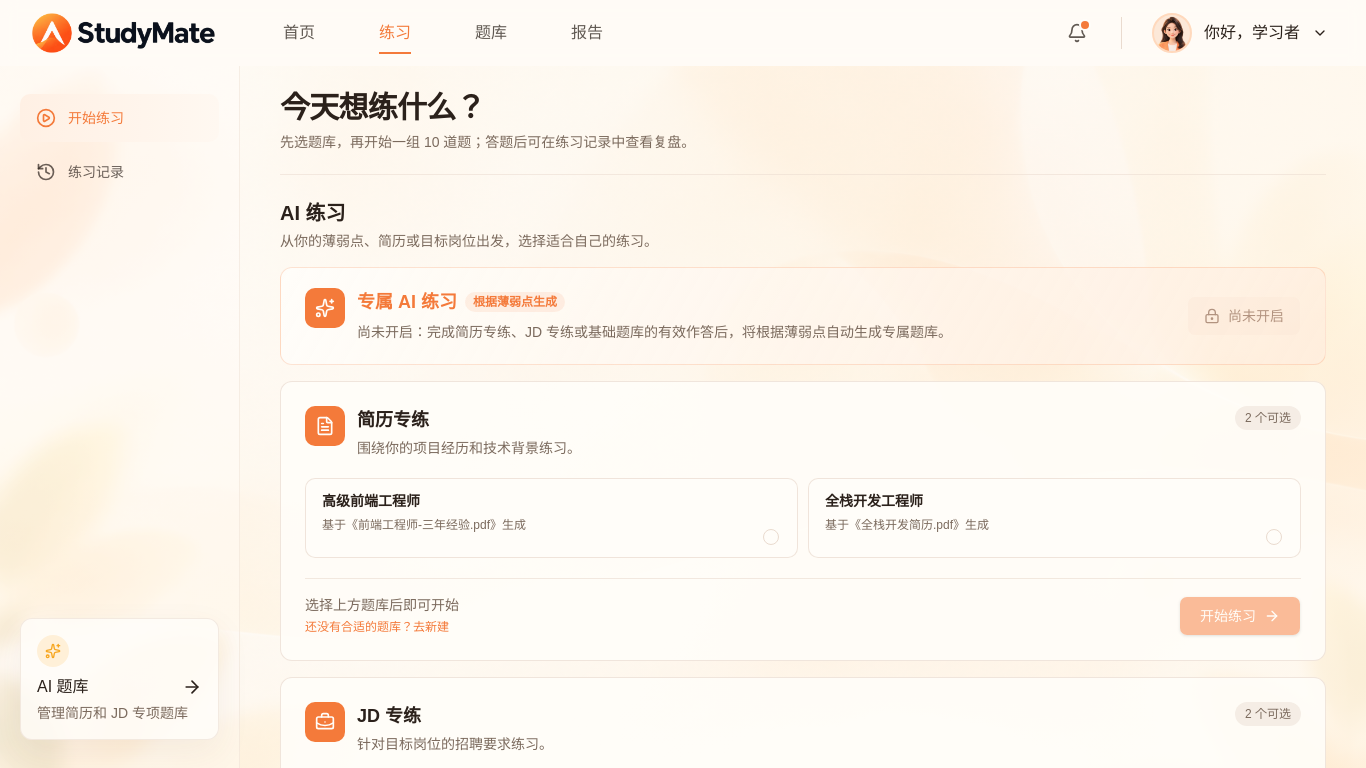
Test: StudyMate home page › opens the notification page from both authenticated header layouts
What coordinates should you click on to do the following:
click the link named "查看通知"
I would click on:
 (1078, 32)
Its box is top-left (1067, 21), bottom-right (1089, 43).
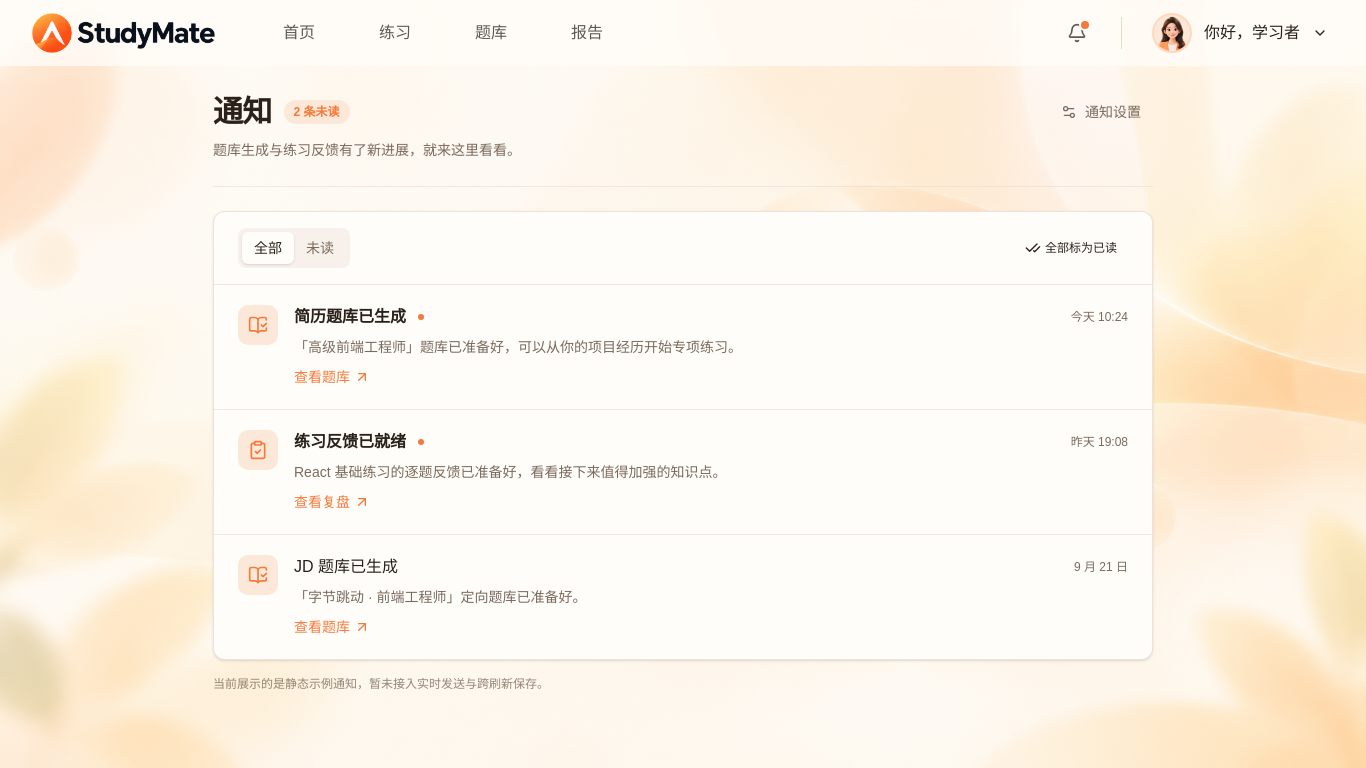
Expected: the heading "通知" is shown, top-left (213, 94), bottom-right (272, 130)
Expected: the element named "通知列表" is shown, top-left (213, 211), bottom-right (1153, 660)
